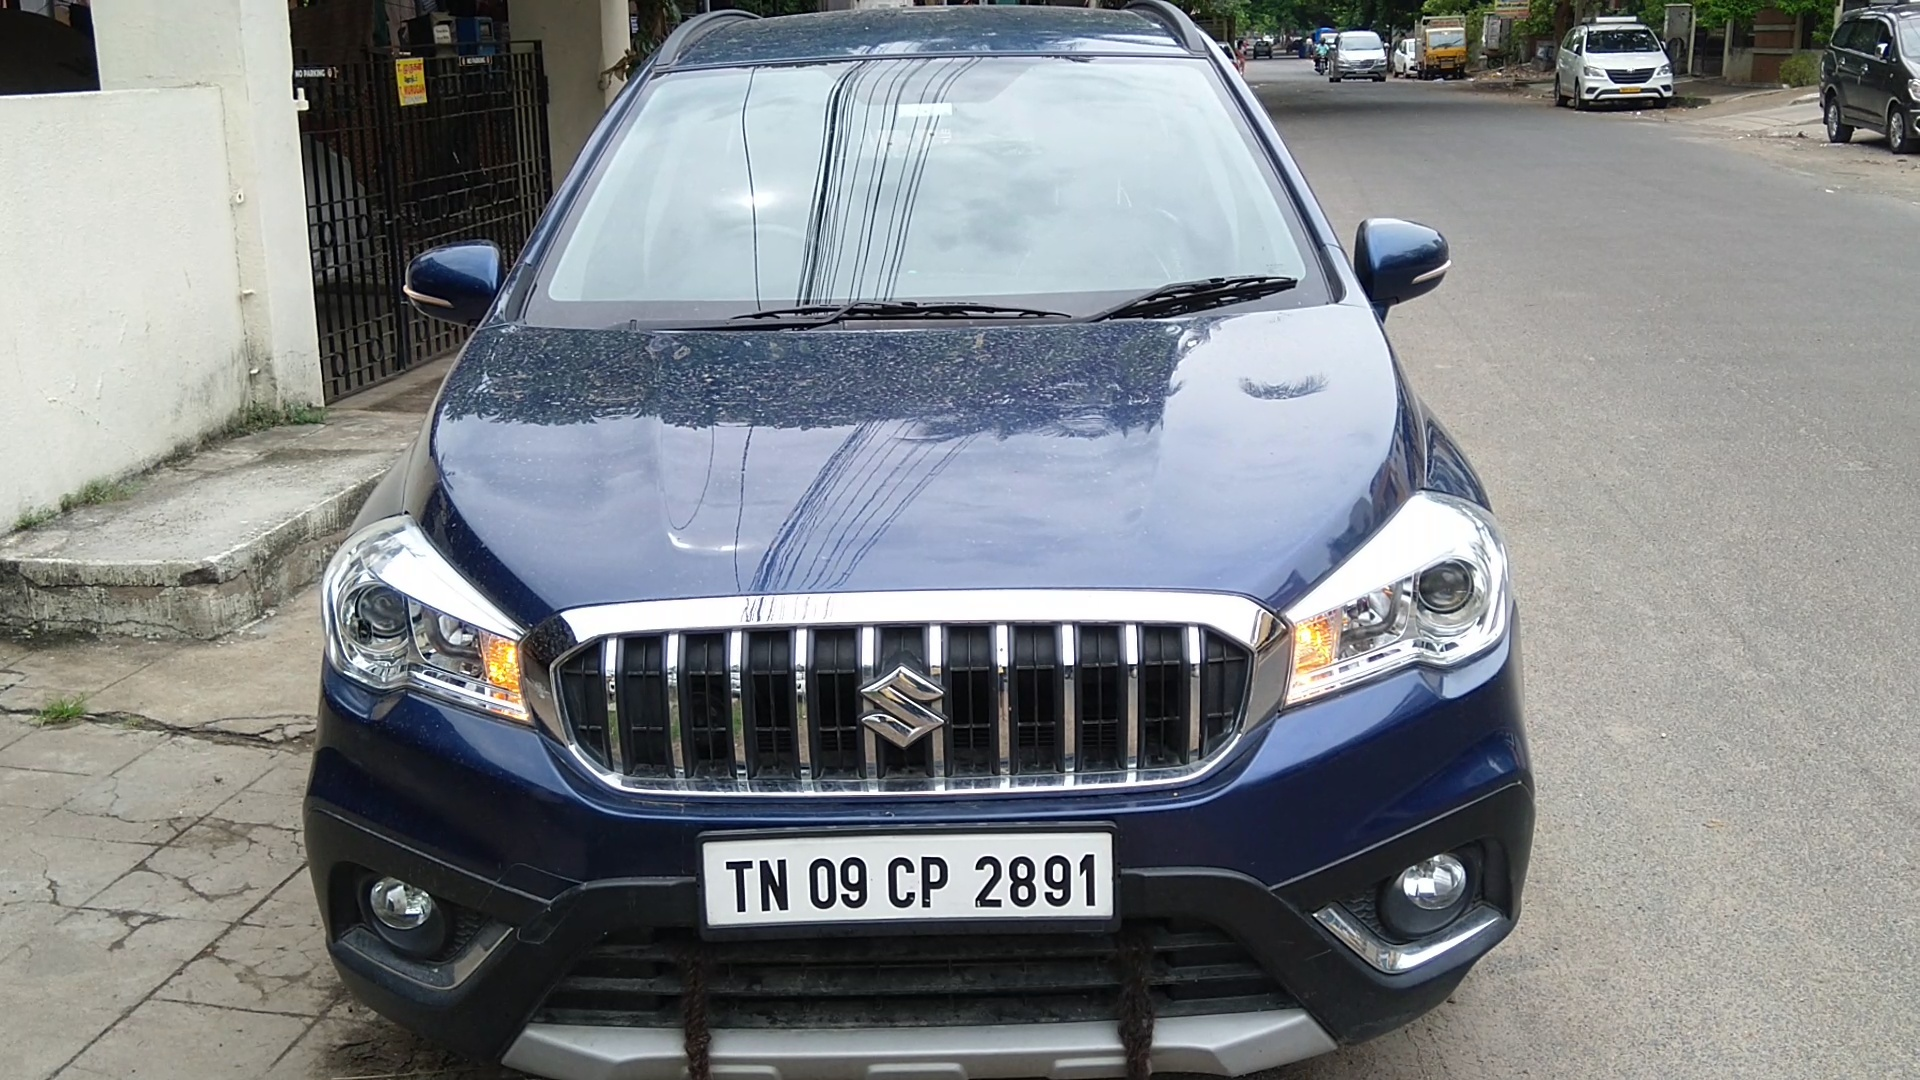front_grill: (521, 585, 1284, 827)
headlamp: (1280, 475, 1511, 745), (324, 485, 534, 767)
ovr_mirror: (401, 232, 514, 342), (1349, 210, 1458, 320)
